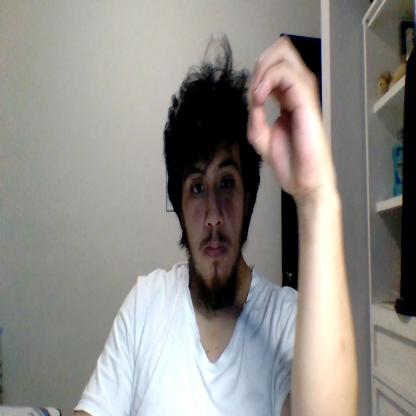O: (246, 36, 329, 196)
